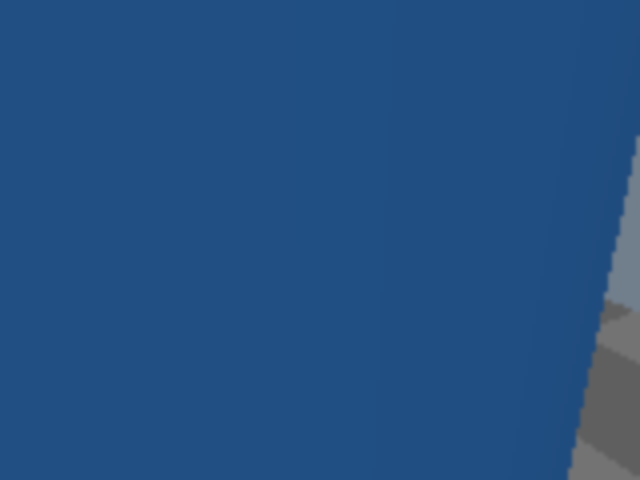puck: (383, 259, 399, 279)
